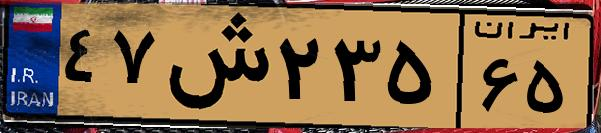2: (270, 28, 330, 110)
3: (330, 28, 385, 110)
4: (57, 26, 110, 100)
5: (385, 28, 445, 110), (525, 38, 570, 115)
6: (475, 38, 525, 113)
7: (110, 28, 158, 98)
ش: (158, 12, 270, 120)
